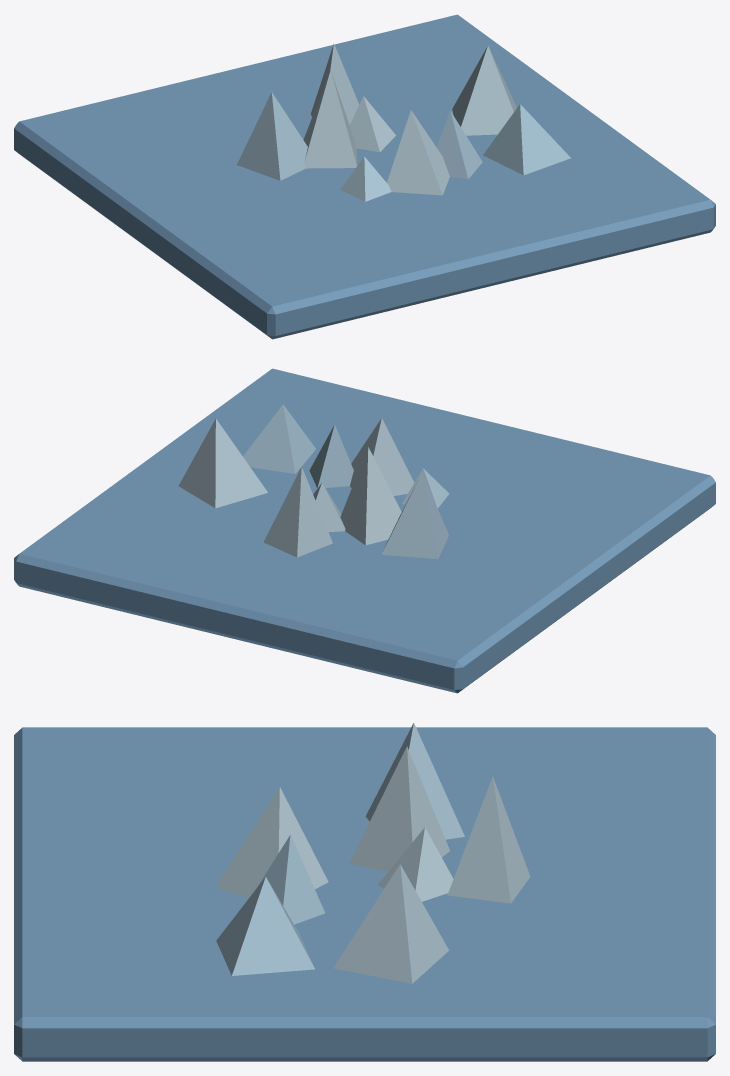
File: ice_tile.glb
3 renders of one model, top to bottom at view 1: azimuth 30°, elevation 25°; view 2: azimuth 150°, elevation 25°; view 3: azimuth 270°, elevation 25°, orthographic. The views are drawn at different scales.
Visible parts, largest first — view 1: IceTile; view 2: IceTile; view 3: IceTile.
Part boxes in pixels (left/top/right/bottom): IceTile: left=14, top=14, right=715, bottom=339; IceTile: left=14, top=368, right=715, bottom=693; IceTile: left=14, top=723, right=715, bottom=1061.
Bounding box in the file's own units: 1 × 0.2488 × 1.
